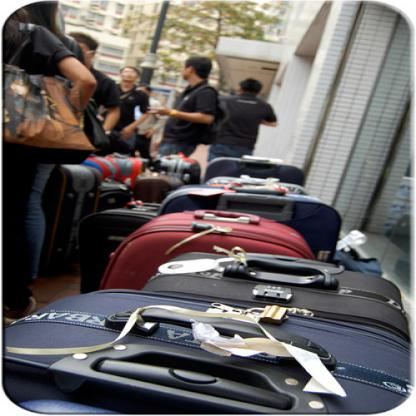backpack: (190, 86, 228, 148), (99, 130, 134, 155), (117, 88, 141, 100)
handbag: (0, 45, 92, 166), (82, 105, 112, 149), (112, 131, 137, 152)
suitcase: (4, 288, 413, 410), (145, 249, 412, 334), (97, 211, 317, 292), (160, 188, 342, 261), (72, 203, 157, 290), (202, 154, 304, 186), (87, 155, 142, 189), (150, 154, 204, 187), (211, 178, 305, 193), (135, 171, 171, 203)
